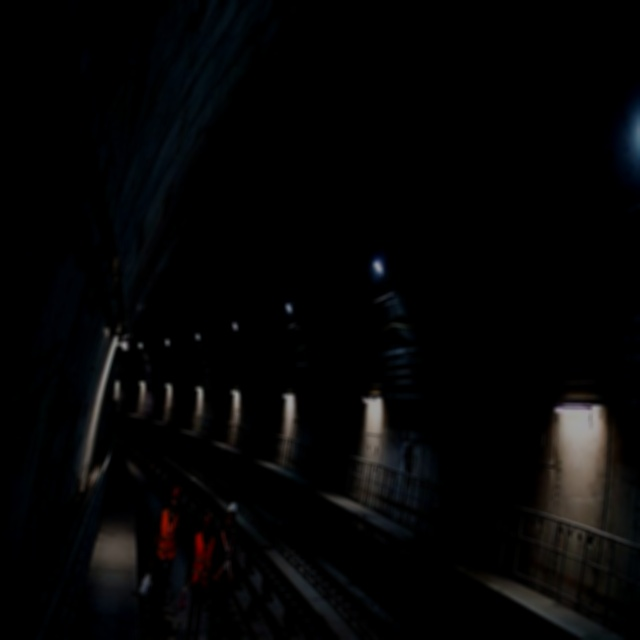Con_Casco: (225, 501, 239, 528)
Con_Chaleco: (153, 507, 183, 565), (190, 533, 214, 584)
